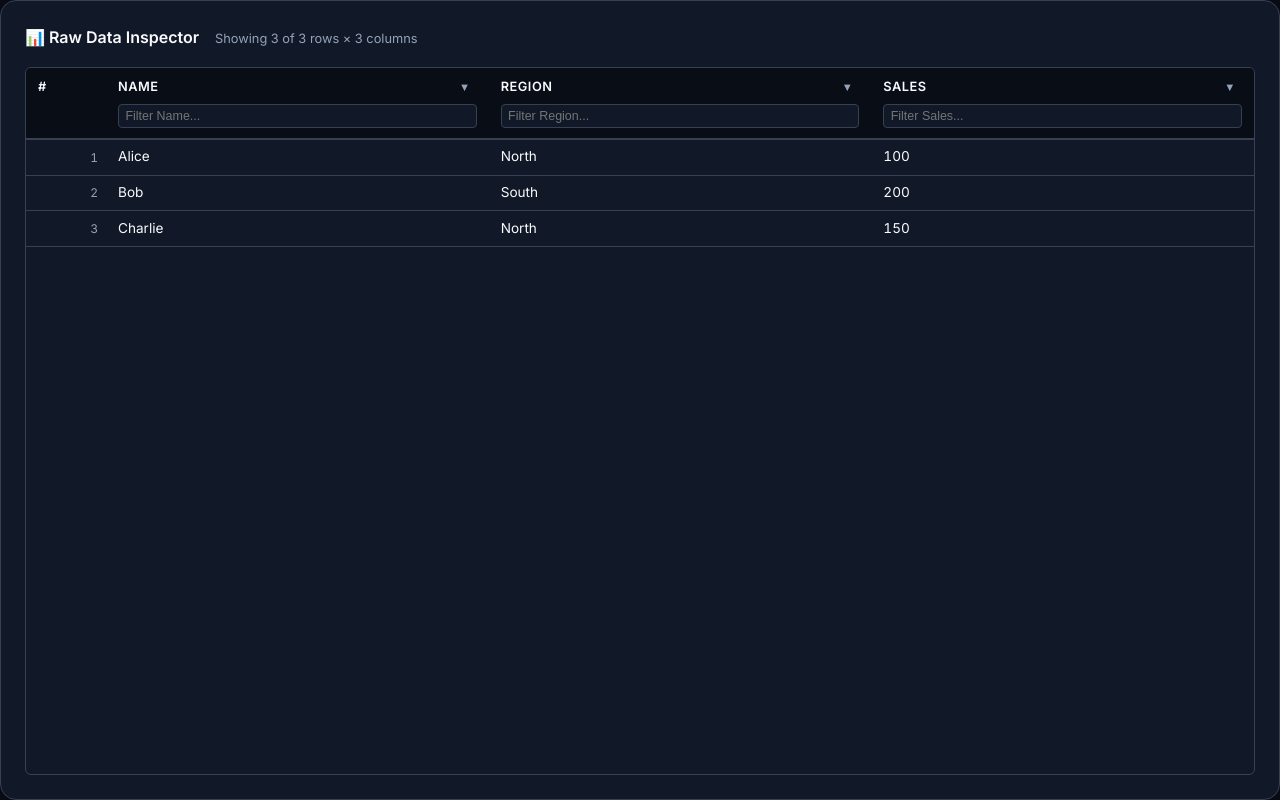
DataEditor Column Filtering and Cell Editing › renders column header filter inputs and filters rows by typed column text
Type "North" in Region filter input
In the field with placeholder "Filter Region...": (680, 116) [501,104,859,128], type "North"
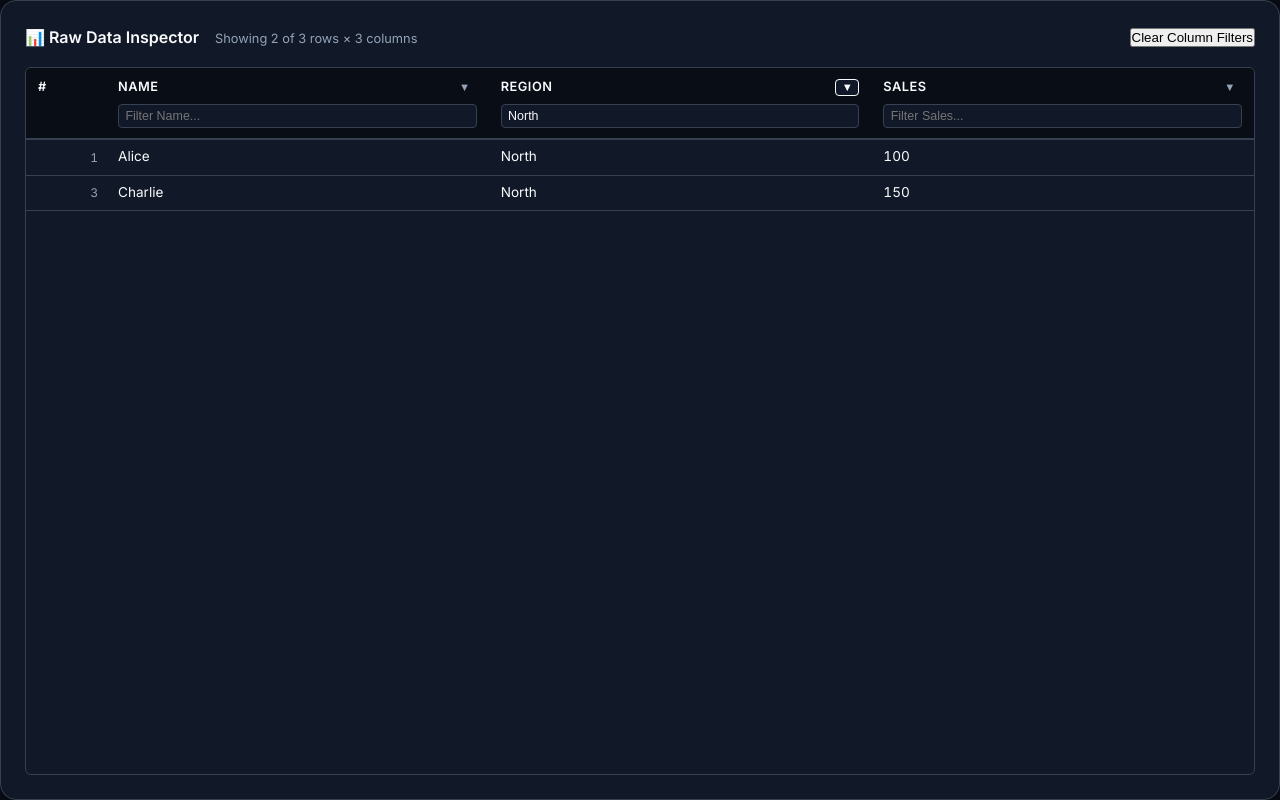
Check: the 2nd field showing "Alice" is shown, box [118,146,477,167]
Check: the text "Showing 2 of 3 rows × 3 columns" is shown, box [215,29,417,50]
